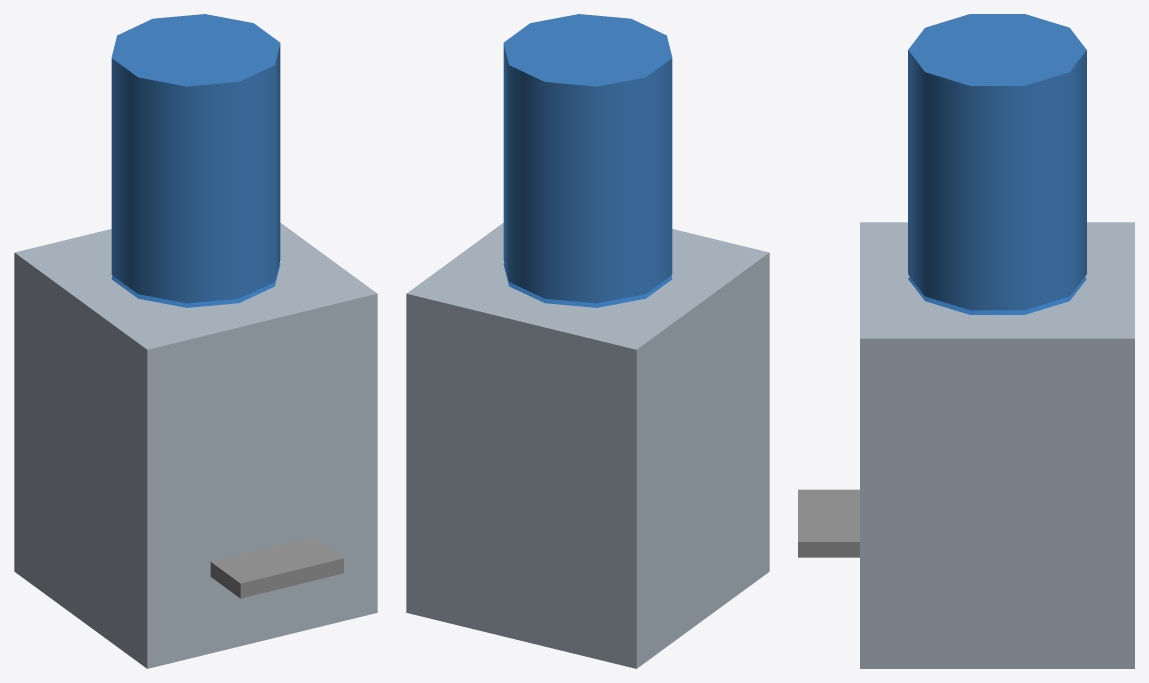
File: water-cooler.glb
The picture shows the model from 3 angles, left to right: view 1: azimuth 30°, elevation 25°; view 2: azimuth 150°, elevation 25°; view 3: azimuth 270°, elevation 25°; orthographic projection. The views are drawn at different scales.
Size of the model in its own units: 0.4 by 0.9 by 0.49.
